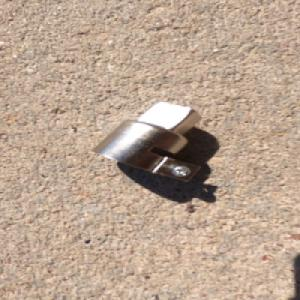MetalPart: (90, 100, 202, 182)
